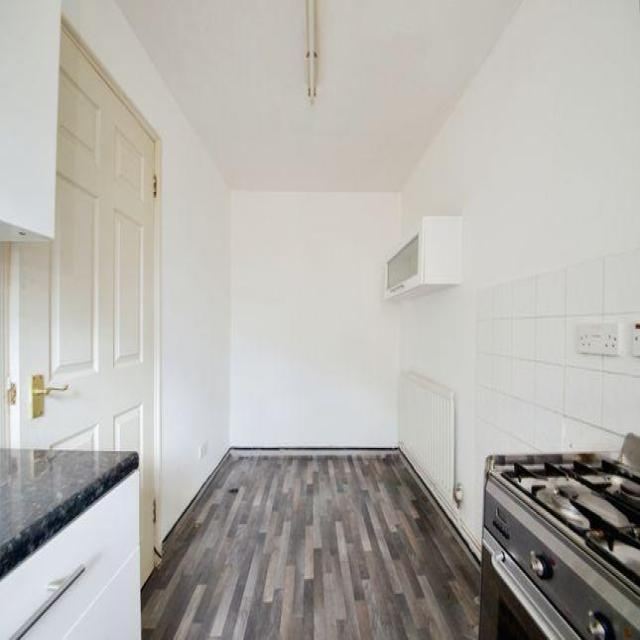Wall: (400, 0, 640, 548), (61, 0, 231, 535), (118, 0, 519, 190), (140, 450, 480, 640), (230, 191, 400, 448), (0, 242, 11, 447)
